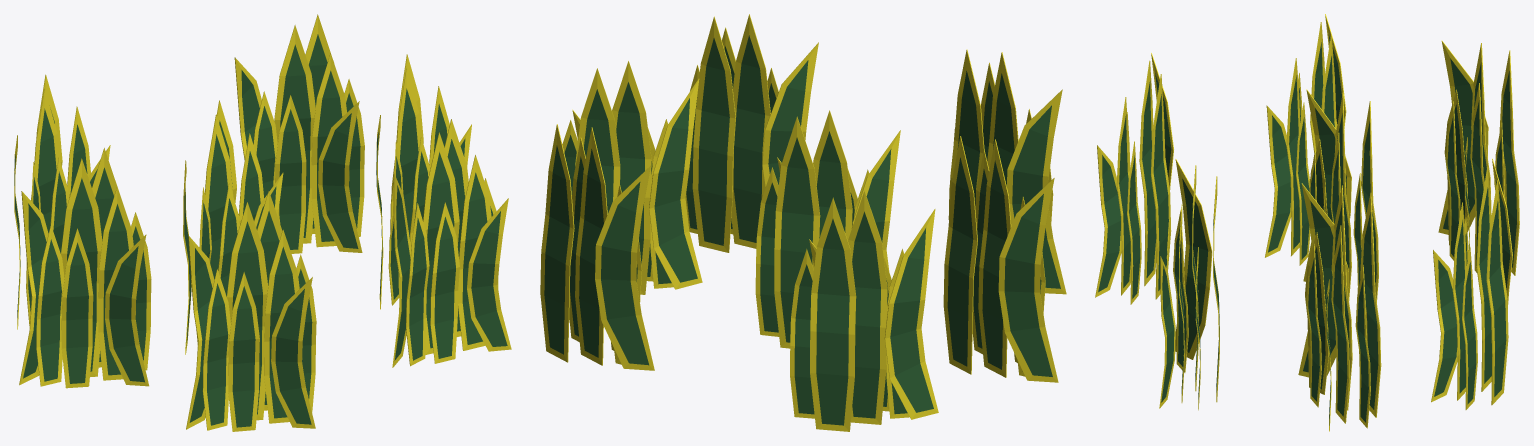
The model's file is 산세베리아.fbx.
The picture shows the model from 3 angles, left to right: view 1: azimuth 30°, elevation 25°; view 2: azimuth 150°, elevation 25°; view 3: azimuth 270°, elevation 25°; orthographic projection. The views are drawn at different scales.
Parts seen in each view (by area): view 1: Line005; view 2: Line005; view 3: Line005.
Boxes of the visible parts, <box> form: Line005: <box>14,14,511,431</box>; Line005: <box>540,14,1066,431</box>; Line005: <box>1095,14,1519,431</box>.
Bounding box in the file's own units: 297 × 136 × 239.
